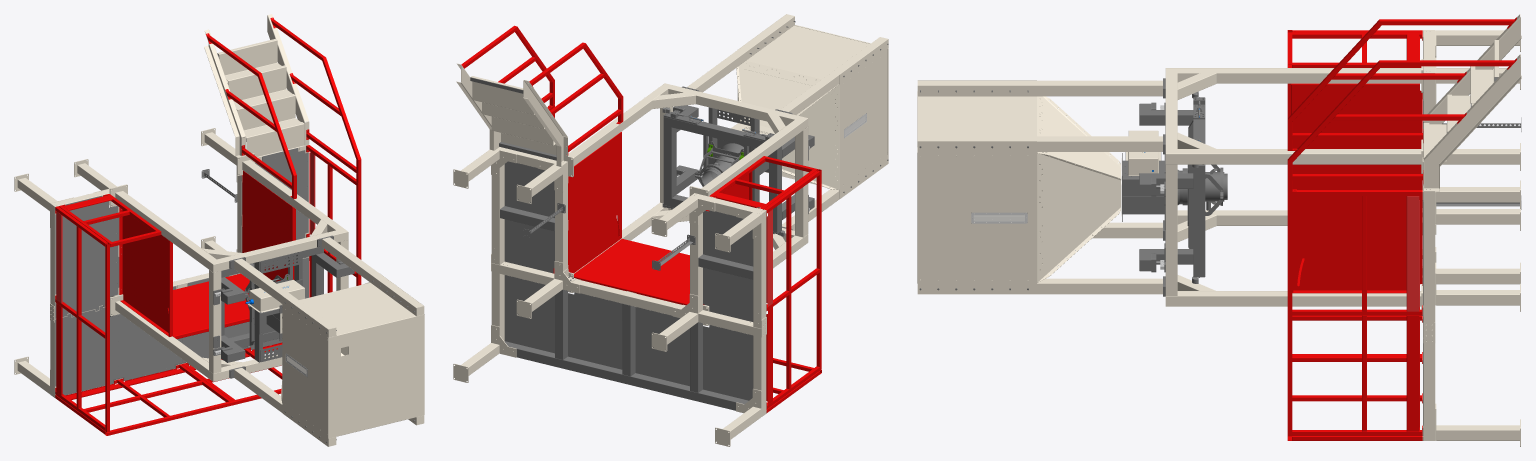
Rendered from mera.glb.
3 renders of one model, left to right at view 1: azimuth 30°, elevation 25°; view 2: azimuth 150°, elevation 25°; view 3: azimuth 270°, elevation 25°, orthographic. The views are drawn at different scales.
Parts seen in each view (by area): view 1: object 160, object 316, object 99, Пол_1, Стенка _1, Передняя стенка_1, =>[0:1:1:331], Труба_16, Площадка_03, Площадка_03_5, Труба_4, Труба (+26 smaller); view 2: object 316, object 160, object 99, Стенка _1, Пол, Пол_1, object 29, Передняя стенка_1, Стенка наклонная_3, Стенка наклонная, Труба_16, Труба (+35 smaller); view 3: object 316, Стенка, object 160, Стенка наклонная_1, Передняя стенка_1, Труба_15, Труба_2, Труба_3, Труба, Труба_16, object 29, =>[0:1:1:331]_1 (+37 smaller).
Boxes of the visible parts, bbox=[...] form: object 160: bbox=[50, 14, 424, 438]; object 316: bbox=[63, 170, 295, 338]; object 99: bbox=[55, 148, 308, 318]; Пол_1: bbox=[55, 286, 181, 395]; Стенка _1: bbox=[282, 296, 328, 446]; Передняя стенка_1: bbox=[292, 282, 423, 337]; =>[0:1:1:331]: bbox=[55, 364, 234, 435]; Труба_16: bbox=[322, 237, 424, 315]; Площадка_03: bbox=[226, 65, 292, 107]; Площадка_03_5: bbox=[217, 39, 281, 83]; Труба_4: bbox=[213, 230, 348, 272]; Труба: bbox=[115, 191, 216, 272]; object 316: bbox=[568, 132, 817, 305]; object 160: bbox=[456, 25, 888, 416]; object 99: bbox=[504, 161, 753, 321]; Стенка _1: bbox=[831, 39, 888, 198]; Пол: bbox=[504, 275, 622, 369]; Пол_1: bbox=[635, 307, 753, 400]; object 29: bbox=[504, 138, 768, 410]; Передняя стенка_1: bbox=[741, 25, 869, 85]; Стенка наклонная_3: bbox=[736, 62, 838, 127]; Стенка наклонная: bbox=[782, 84, 839, 189]; Труба_16: bbox=[687, 14, 794, 92]; Труба: bbox=[701, 118, 808, 195]; object 316: bbox=[1287, 32, 1422, 293]; Стенка: bbox=[917, 141, 1047, 294]; object 160: bbox=[917, 14, 1521, 440]; Стенка наклонная_1: bbox=[1037, 153, 1121, 282]; Передняя стенка_1: bbox=[919, 96, 1047, 156]; Труба_15: bbox=[917, 80, 1162, 96]; Труба_2: bbox=[1165, 149, 1421, 164]; Труба_3: bbox=[1165, 291, 1421, 306]; Труба: bbox=[1166, 68, 1421, 83]; Труба_16: bbox=[917, 136, 1162, 151]; object 29: bbox=[1122, 152, 1227, 230]; =>[0:1:1:331]_1: bbox=[1287, 356, 1421, 440].
Bounding box in the file's own units: 3.28 × 3.58 × 5.06.
